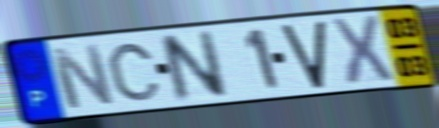1: (242, 26, 281, 92)
C: (105, 41, 163, 103)
N: (156, 28, 230, 105), (46, 42, 118, 112)
V: (279, 18, 327, 92)
X: (328, 13, 397, 89)
